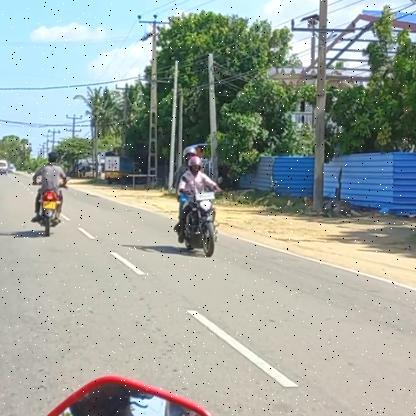motorcycle: (172, 190, 224, 262), (29, 191, 68, 246)
